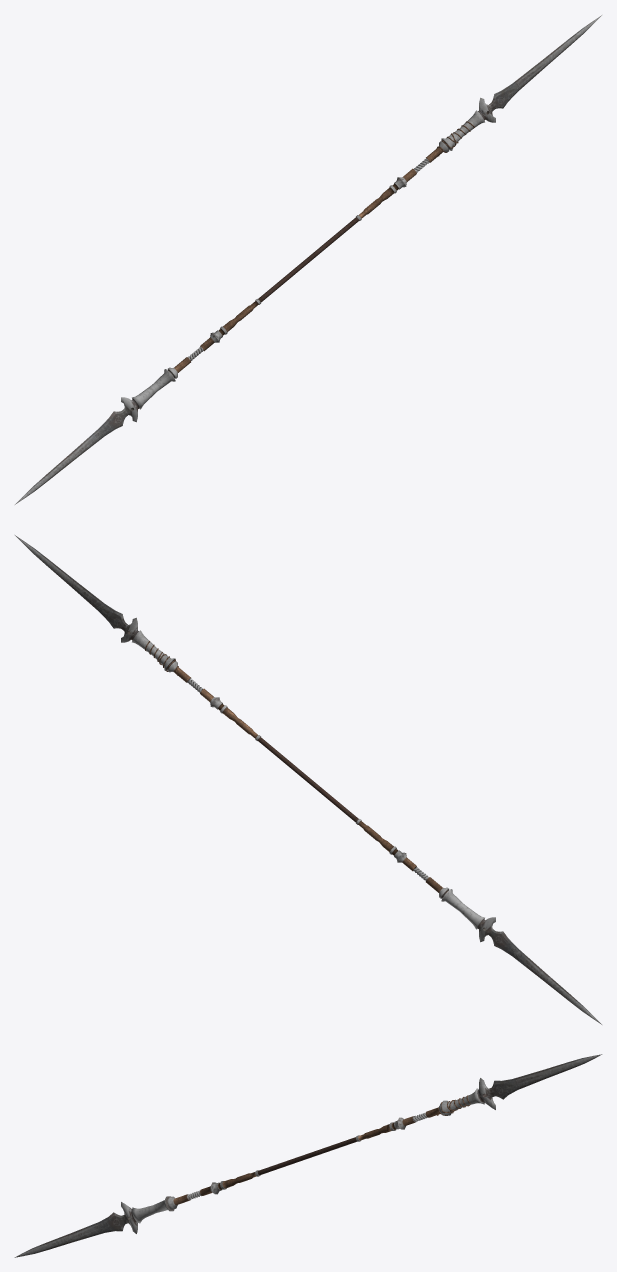
File: w_spear__spear.glb
3 views of the same model, one above another, from view 1: azimuth 30°, elevation 25°; view 2: azimuth 150°, elevation 25°; view 3: azimuth 330°, elevation 25° (orthographic).
Visible parts, largest first — view 1: Cylinder; view 2: Cylinder; view 3: Cylinder.
Part boxes in pixels (x1=…): Cylinder: x1=15, y1=15, x2=601, y2=504; Cylinder: x1=15, y1=535, x2=601, y2=1024; Cylinder: x1=14, y1=1054, x2=602, y2=1257.
Size of the model in its own units: 11574 by 6524 by 293.
1 material, 1 textured.
